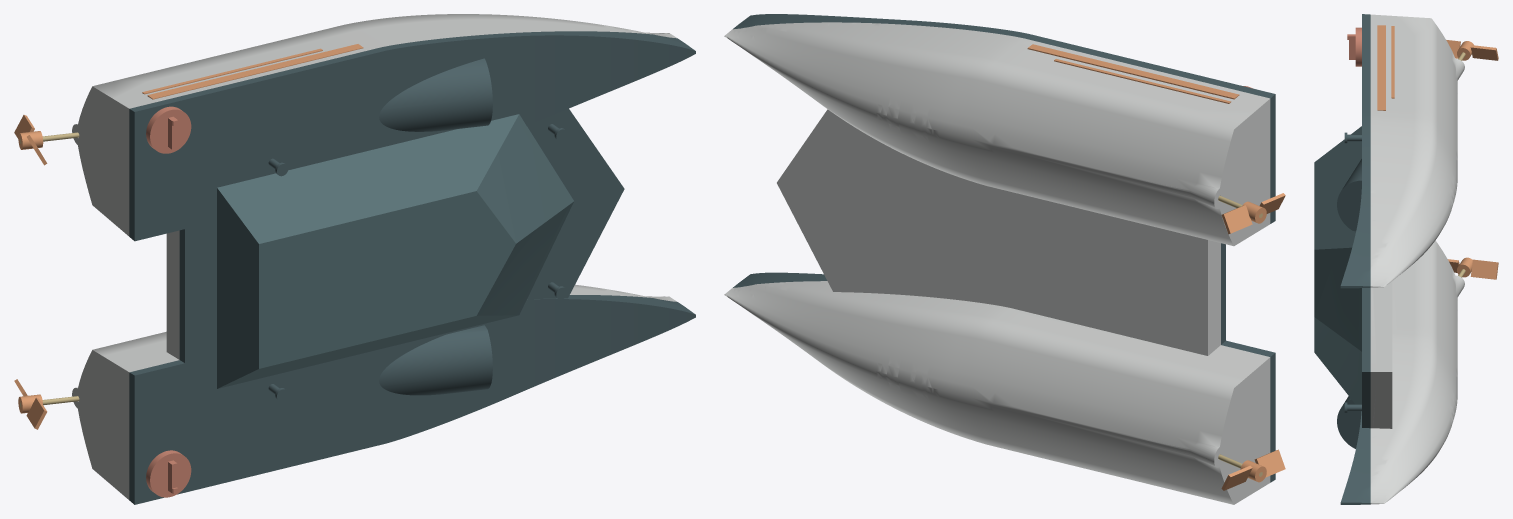
Rendered from QB12_render.glb.
3 renders of one model, left to right at view 1: azimuth 30°, elevation 25°; view 2: azimuth 150°, elevation 25°; view 3: azimuth 270°, elevation 25°, orthographic. The views are drawn at different scales.
Parts seen in each view (by area): view 1: Deck, Canopy, Hull, Glass, Knobs, Stripes, Props; view 2: Hull, Deck, Props, Stripes; view 3: Hull, Deck, Canopy, Glass, Props, Stripes, Knobs.
Part boxes in pixels (box(x1,y1,x2,y2)): Deck: box(129, 31, 695, 504); Canopy: box(217, 114, 574, 388); Hull: box(72, 14, 677, 499); Glass: box(476, 119, 569, 315); Knobs: box(146, 106, 191, 497); Stripes: box(142, 44, 363, 99); Props: box(14, 115, 47, 429); Hull: box(724, 22, 1270, 504); Deck: box(733, 14, 1275, 482); Props: box(1221, 193, 1285, 490); Stripes: box(1027, 44, 1239, 103); Hull: box(1370, 14, 1464, 504); Deck: box(1337, 14, 1370, 504); Canopy: box(1314, 126, 1361, 411); Glass: box(1314, 247, 1358, 404); Props: box(1446, 40, 1498, 279); Stripes: box(1377, 25, 1394, 110); Knobs: box(1347, 27, 1361, 66).
Bounding box in the file's own units: 263 × 164 × 84.89.
